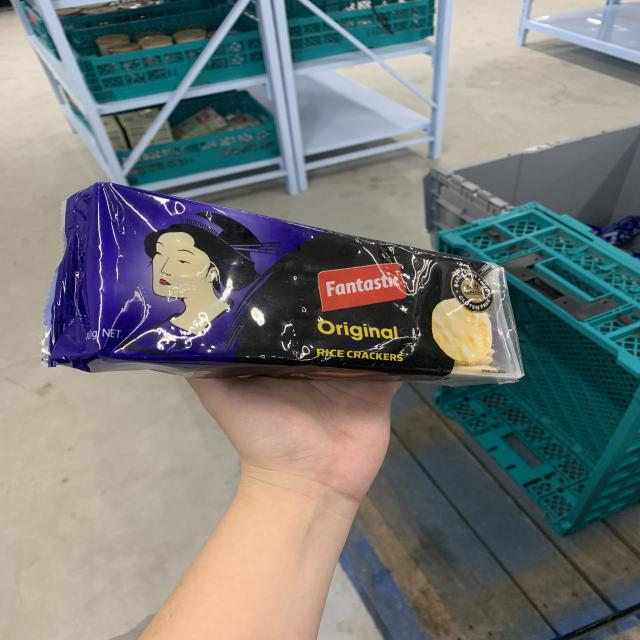object_name: (79, 198, 510, 377)
